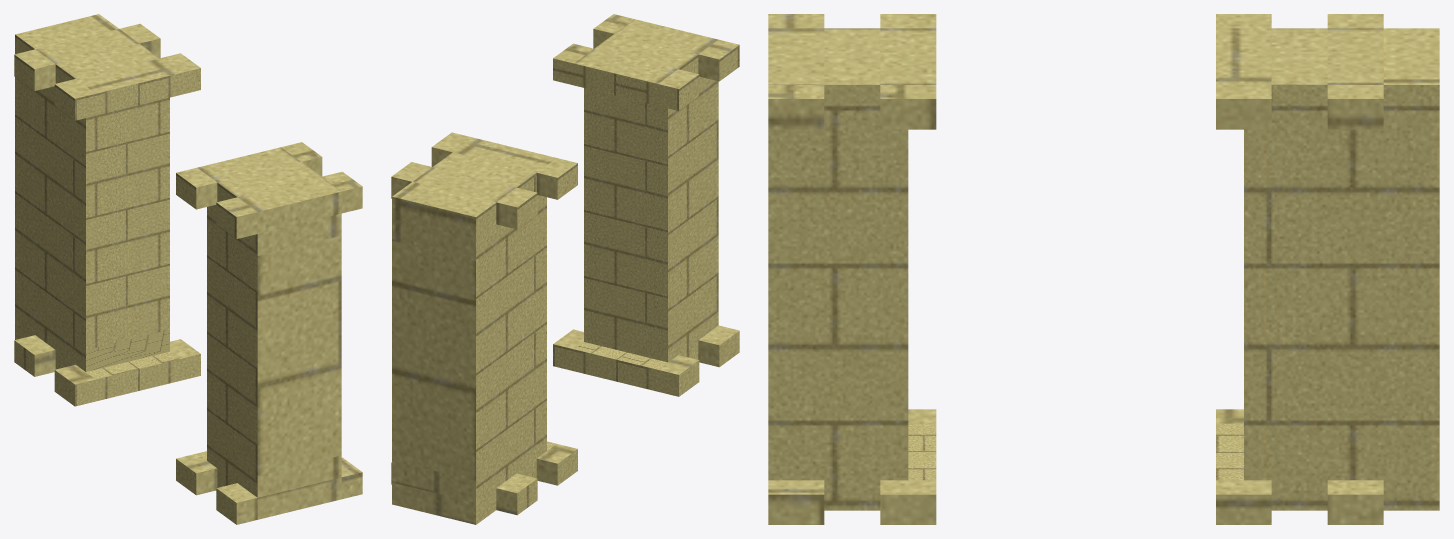
The model's file is Ruins_7.fbx.
3 views of the same model, side by side, from view 1: azimuth 30°, elevation 25°; view 2: azimuth 150°, elevation 25°; view 3: azimuth 270°, elevation 25° (orthographic). The views are drawn at different scales.
Visible parts, largest first — view 1: Ruins_7; view 2: Ruins_7; view 3: Ruins_7.
Part boxes in pixels (<box>): Ruins_7: <box>14,14,362,524</box>; Ruins_7: <box>391,14,739,524</box>; Ruins_7: <box>768,14,1439,524</box>.
Size of the model in its own units: 300 by 700 by 1000.
